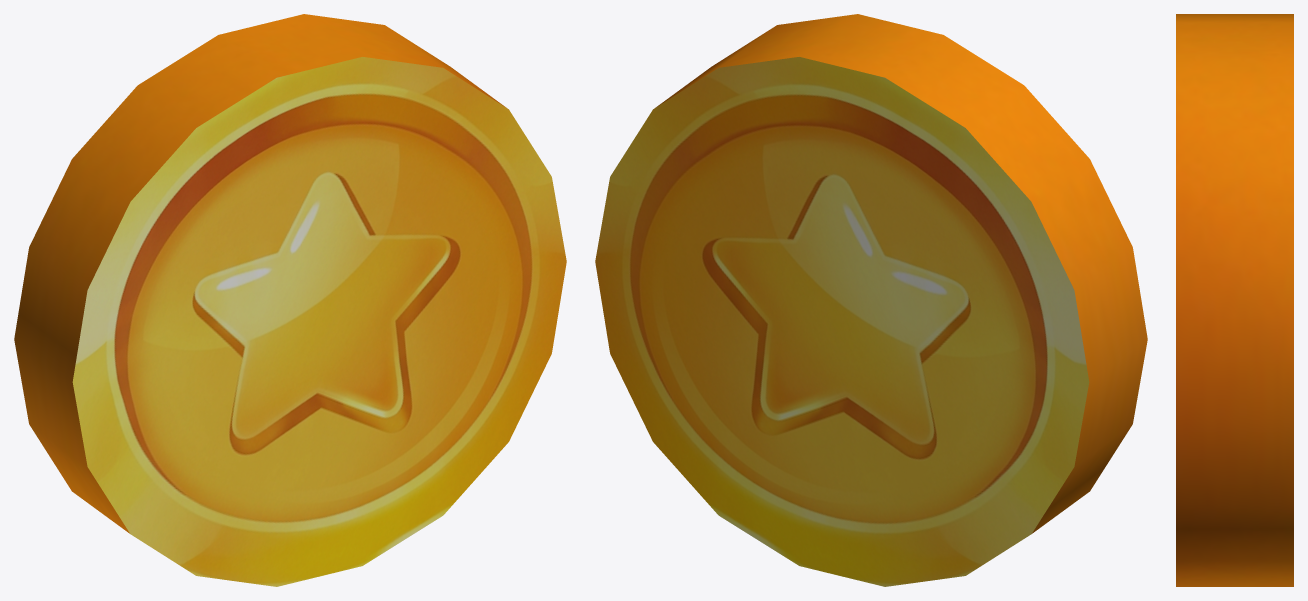
Rendered from Gold_Coin.fbx.
3 views of the same model, side by side, from view 1: azimuth 30°, elevation 25°; view 2: azimuth 150°, elevation 25°; view 3: azimuth 270°, elevation 25° (orthographic).
Visible parts, largest first — view 1: Cylinder; view 2: Cylinder; view 3: Cylinder.
Part boxes in pixels (x1,y1,x2,y2): Cylinder: (14, 14, 566, 586); Cylinder: (595, 14, 1147, 586); Cylinder: (1176, 14, 1293, 586).
Size of the model in its own units: 2.49 by 2.45 by 0.5109.
